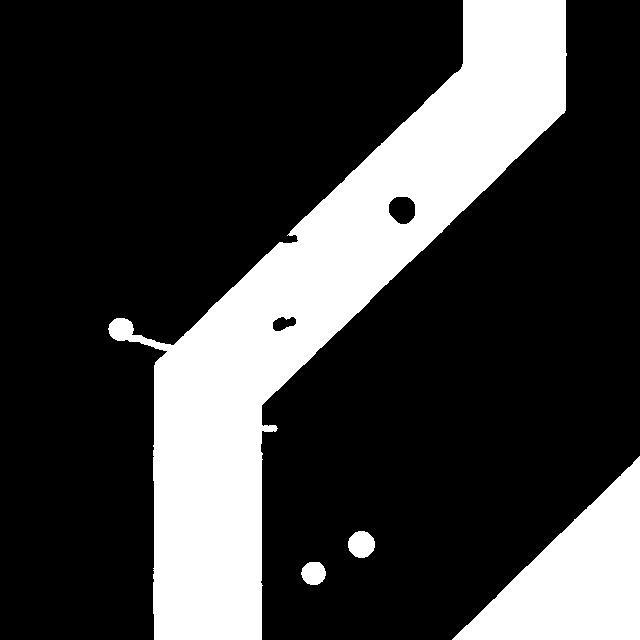copper: (379, 187, 424, 233), (263, 307, 305, 340)
mousebite: (246, 415, 287, 441)
open: (117, 325, 184, 361)
pin-hole: (338, 521, 384, 567)
spur: (262, 223, 307, 252)
